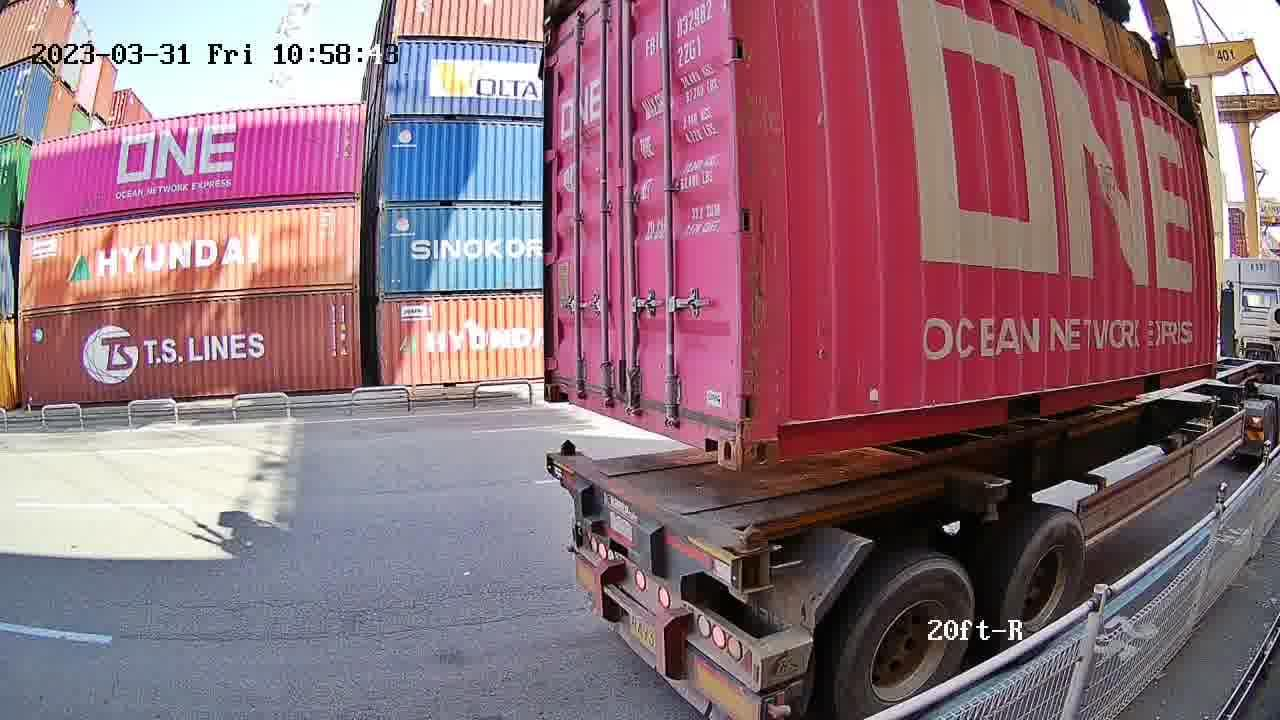Chassis: (548, 452, 770, 597)
Cone: (734, 525, 766, 590), (556, 438, 579, 458)
Hole_L: (742, 388, 808, 471), (543, 357, 578, 406)
Hole_R: (690, 384, 742, 471)
Tire: (836, 561, 975, 719), (1002, 515, 1084, 658)
